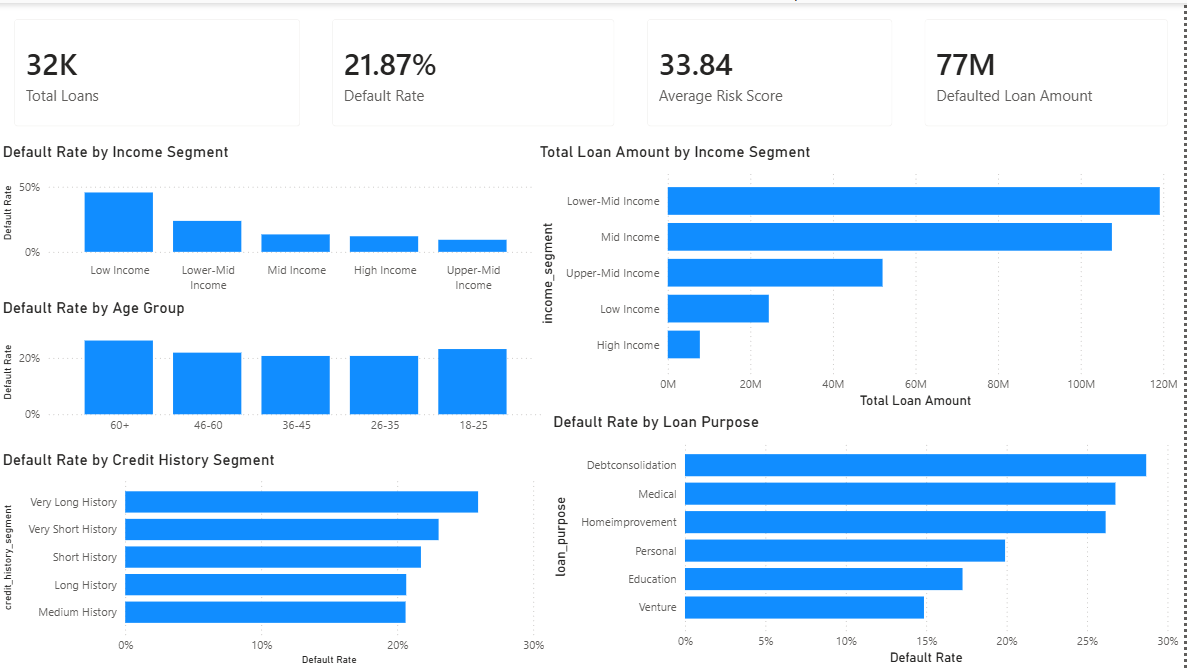

What the dashboard file says about the page in this screenshot:
{"tool":"powerbi","page":{"name":"Borrower Segments","canvas":[1280,720],"ordinal":2},"visuals":[{"type":"cardVisual","fields":{"Data":["loans.Total Loans"]},"box":[0,0,343.4,150.6],"z":0},{"type":"cardVisual","fields":{"Data":["loans.Default Rate"]},"box":[343.4,0,339.4,150.6],"z":1000},{"type":"cardVisual","fields":{"Data":["loans.Average Risk Score"]},"box":[682.9,0,299.2,150.6],"z":2000},{"type":"cardVisual","fields":{"Data":["loans.Defaulted Loan Amount"]},"box":[982.1,0,297.2,150.6],"z":3000},{"type":"clusteredColumnChart","title":"Default Rate by Income Segment","fields":{"Category":["loans.income_segment"],"Y":["loans.Default Rate"]},"box":[0,150.6,594.5,168.7],"z":4000},{"type":"clusteredColumnChart","title":"Default Rate by Age Group","fields":{"Category":["loans.age_group"],"Y":["loans.Default Rate"]},"box":[0,319.3,594.5,154.6],"z":5000},{"type":"clusteredBarChart","title":"Default Rate by Credit History Segment","fields":{"Category":["loans.credit_history_segment"],"Y":["loans.Default Rate"]},"box":[0,482,594.5,237],"z":6000},{"type":"clusteredBarChart","title":"Total Loan Amount by Income Segment","fields":{"Category":["loans.income_segment"],"Y":["loans.Total Loan Amount"]},"box":[580.4,150.6,698.9,291.2],"z":7000},{"type":"clusteredBarChart","title":"Default Rate by Loan Purpose","fields":{"Category":["loans.loan_purpose"],"Y":["loans.Default Rate"]},"box":[594.5,441.8,684.9,277.2],"z":7001}]}

Visuals, with their boxes in screenshot pixels (x1, y1, x2, y2), scaled from the page's 1280x720 canvas onto the 1187x670 screenshot:
cardVisual - loans.Total Loans: box=[0, 0, 318, 140]
cardVisual - loans.Default Rate: box=[318, 0, 633, 140]
cardVisual - loans.Average Risk Score: box=[633, 0, 911, 140]
cardVisual - loans.Defaulted Loan Amount: box=[911, 0, 1186, 140]
"Default Rate by Income Segment" clusteredColumnChart: box=[0, 140, 551, 297]
"Default Rate by Age Group" clusteredColumnChart: box=[0, 297, 551, 441]
"Default Rate by Credit History Segment" clusteredBarChart: box=[0, 449, 551, 669]
"Total Loan Amount by Income Segment" clusteredBarChart: box=[538, 140, 1186, 411]
"Default Rate by Loan Purpose" clusteredBarChart: box=[551, 411, 1186, 669]
